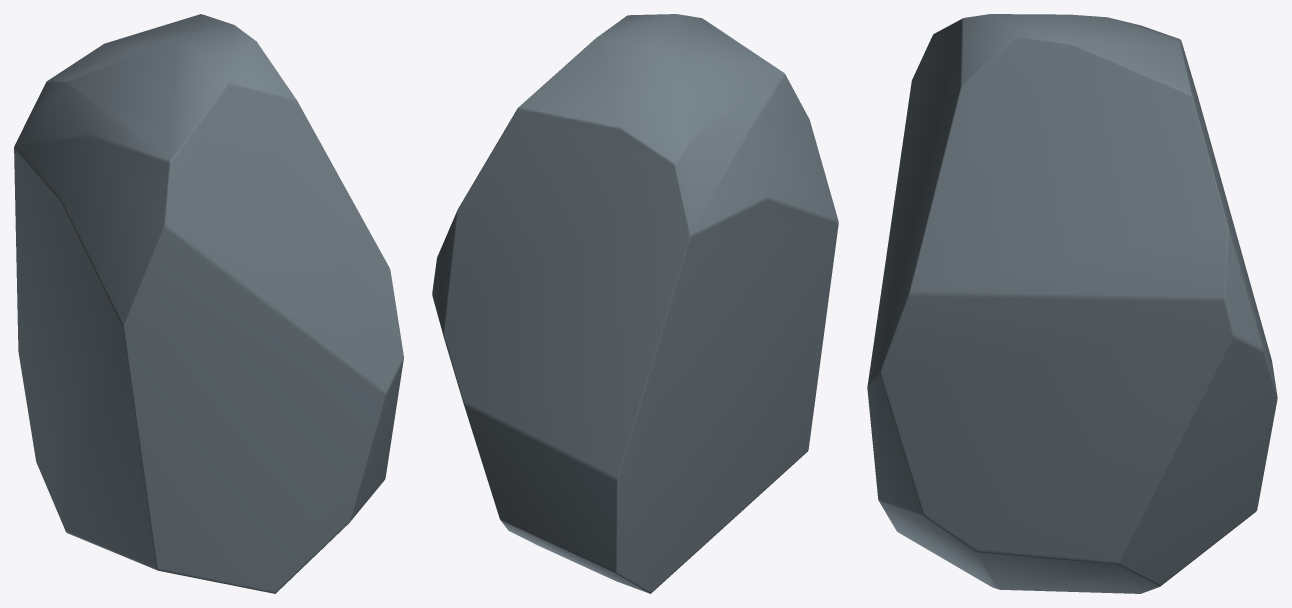
File: Rock1-col.glb
3 renders of one model, left to right at view 1: azimuth 30°, elevation 25°; view 2: azimuth 150°, elevation 25°; view 3: azimuth 270°, elevation 25°, orthographic. The views are drawn at different scales.
Visible parts, largest first — view 1: Rock1-col; view 2: Rock1-col; view 3: Rock1-col.
Boxes of the visible parts, box(x1,y1,x2,y2) form: Rock1-col: box(14, 14, 403, 593); Rock1-col: box(432, 14, 838, 593); Rock1-col: box(867, 14, 1277, 593).
Size of the model in its own units: 1.13 by 2.1 by 1.39.
